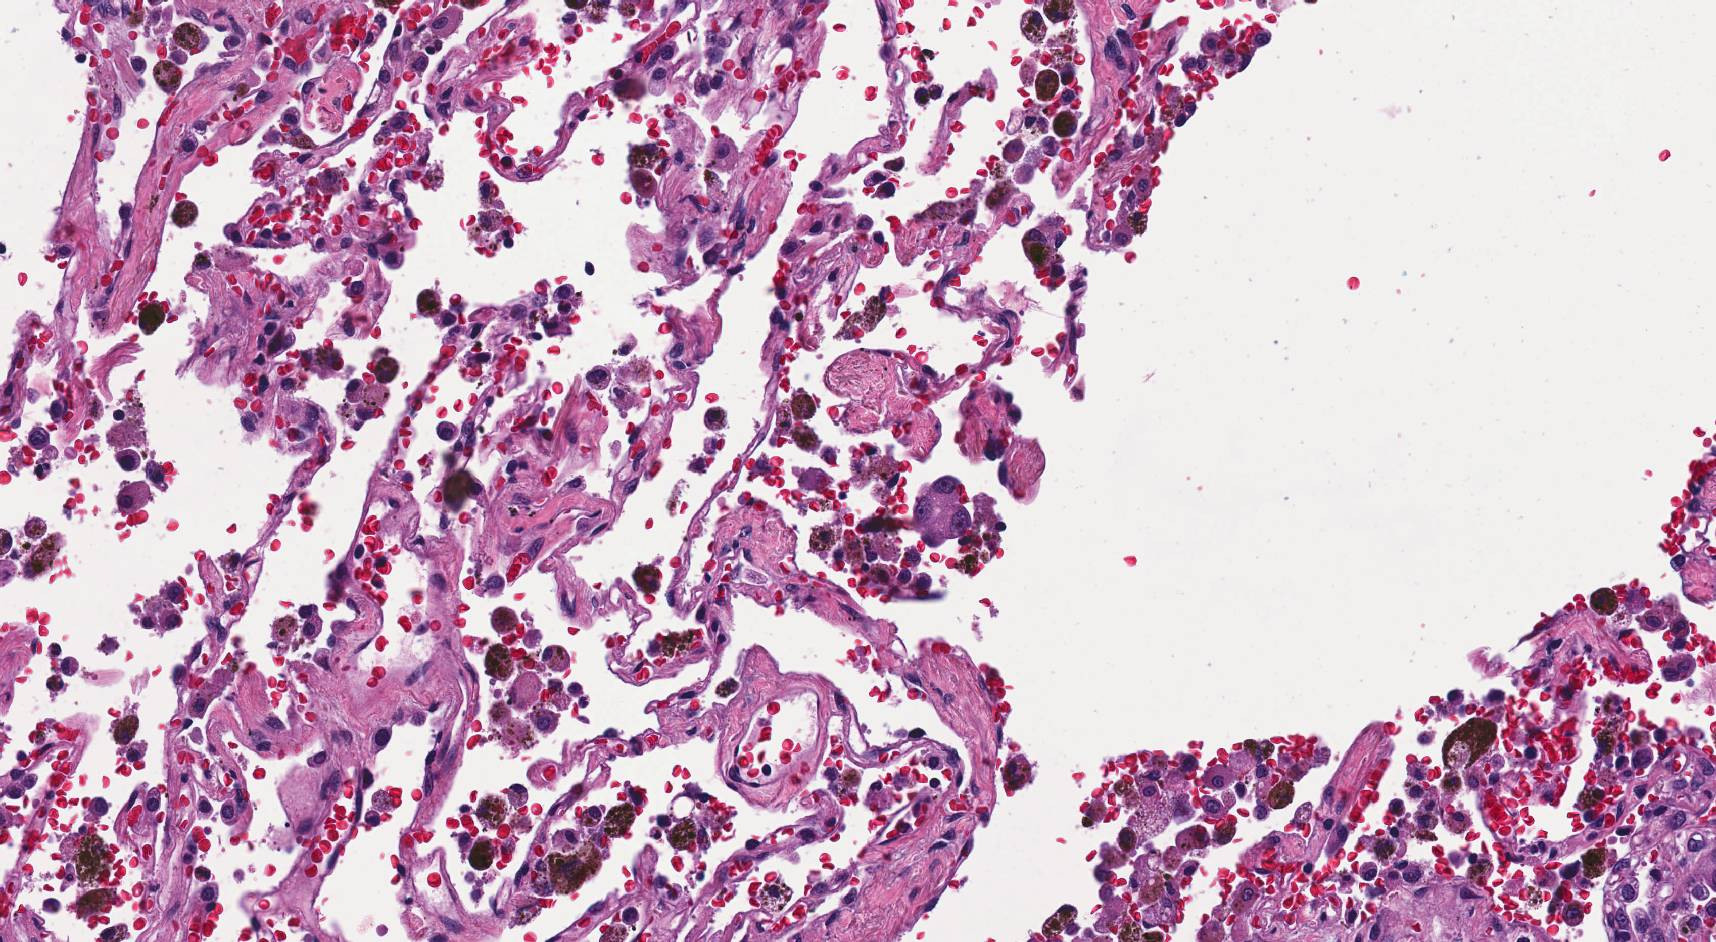stas: (911, 473, 973, 551)
